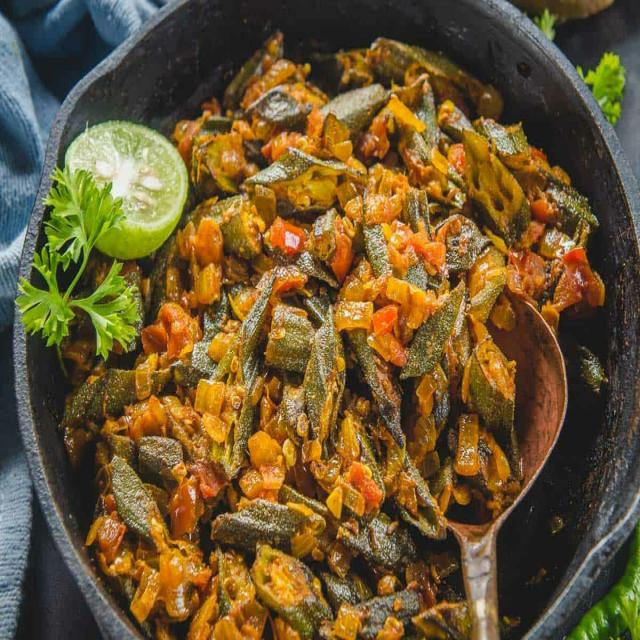BhindiMasala: (59, 29, 605, 640)
